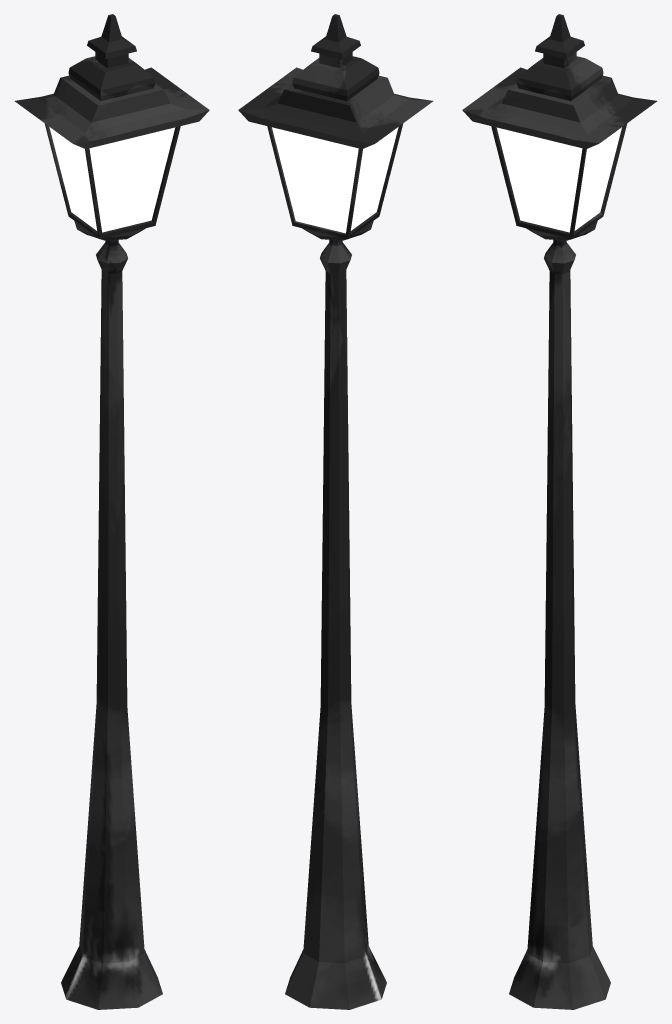
File: streetlamp_2.glb
The picture shows the model from 3 angles, left to right: view 1: azimuth 30°, elevation 25°; view 2: azimuth 150°, elevation 25°; view 3: azimuth 330°, elevation 25°; orthographic projection.
Visible parts, largest first — view 1: Street Lamp 2, Light 2; view 2: Street Lamp 2, Light 2; view 3: Street Lamp 2, Light 2.
Boxes of the visible parts, left/top/right/bottom form: Street Lamp 2: left=14, top=14, right=209, bottom=1009; Light 2: left=49, top=127, right=175, bottom=232; Street Lamp 2: left=238, top=14, right=433, bottom=1009; Light 2: left=272, top=127, right=398, bottom=233; Street Lamp 2: left=462, top=14, right=657, bottom=1009; Light 2: left=496, top=127, right=621, bottom=232.
Bounding box in the file's own units: 1.93 × 13.09 × 1.49.
2 materials, 1 textured.
